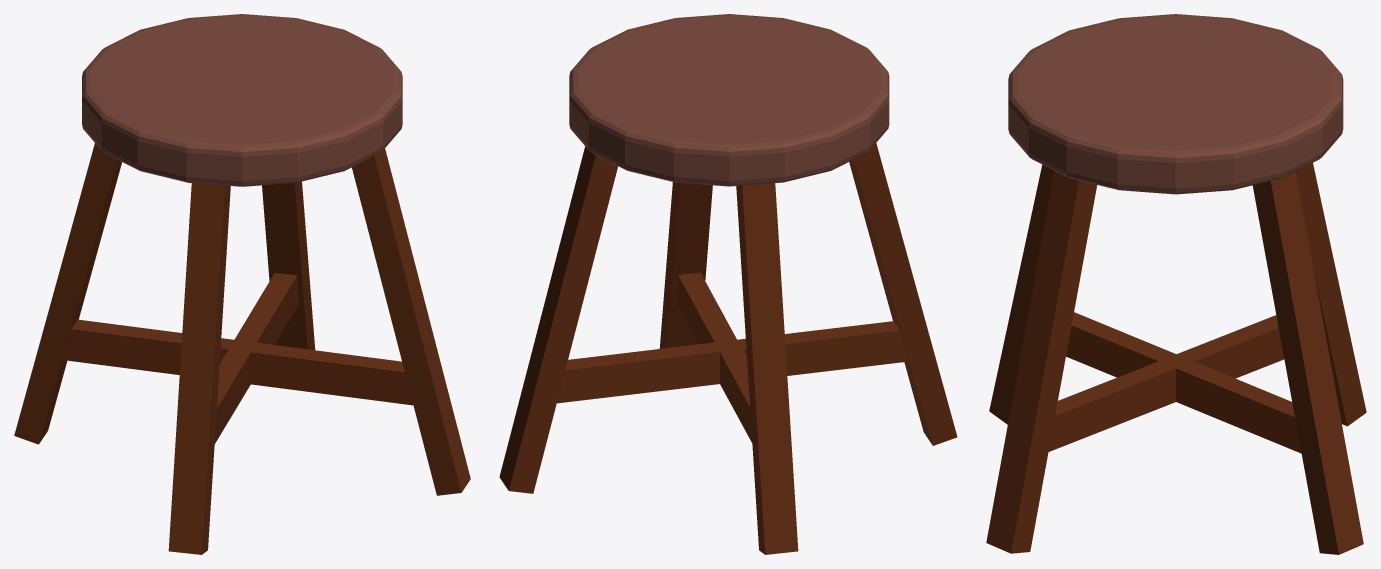
The model's file is Stool.obj.
3 views of the same model, side by side, from view 1: azimuth 30°, elevation 25°; view 2: azimuth 150°, elevation 25°; view 3: azimuth 270°, elevation 25° (orthographic). The views are drawn at different scales.
Visible parts, largest first — view 1: Cylinder002, Box010, Box007, Box012, Box009, Box008, Box011; view 2: Cylinder002, Box009, Box008, Box011, Box010, Box007, Box012; view 3: Cylinder002, Box008, Box007, Box012, Box011, Box009, Box010.
Boxes of the visible parts, left/top/right/bottom form: Cylinder002: left=82, top=14, right=402, bottom=186; Box010: left=168, top=183, right=230, bottom=554; Box007: left=352, top=148, right=470, bottom=495; Box012: left=63, top=319, right=413, bottom=405; Box009: left=14, top=143, right=121, bottom=444; Box008: left=262, top=181, right=315, bottom=350; Box011: left=214, top=273, right=299, bottom=443; Cylinder002: left=569, top=14, right=889, bottom=186; Box009: left=736, top=183, right=798, bottom=554; Box008: left=499, top=146, right=617, bottom=493; Box011: left=557, top=321, right=908, bottom=403; Box010: left=849, top=143, right=957, bottom=445; Box007: left=659, top=182, right=712, bottom=348; Box012: left=676, top=272, right=752, bottom=442; Cylinder002: left=1008, top=14, right=1343, bottom=194; Box008: left=1252, top=171, right=1363, bottom=554; Box007: left=986, top=170, right=1097, bottom=553; Box012: left=1048, top=315, right=1284, bottom=451; Box011: left=1066, top=312, right=1301, bottom=453; Box009: left=1296, top=163, right=1366, bottom=426; Box010: left=989, top=164, right=1054, bottom=424.
Size of the model in its own units: 257818 by 311577 by 268219.
